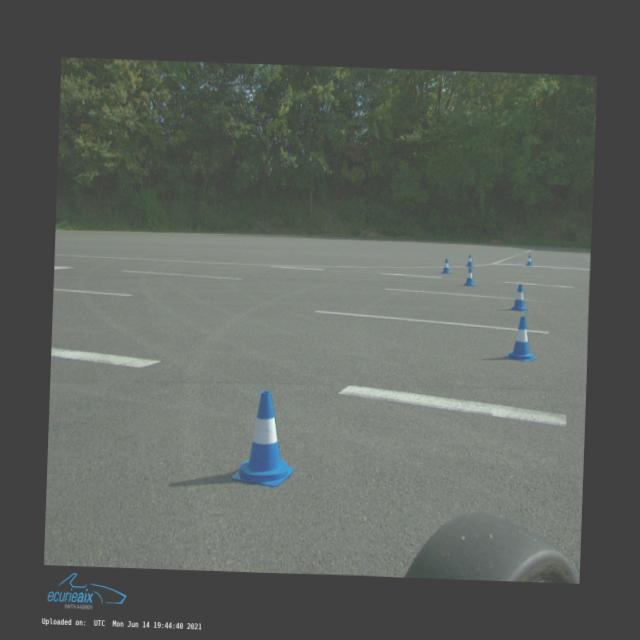blue_cone: (232, 389, 296, 487), (504, 315, 538, 361), (508, 283, 528, 311), (462, 266, 476, 286), (440, 258, 450, 273), (465, 254, 473, 266), (525, 253, 532, 265)
